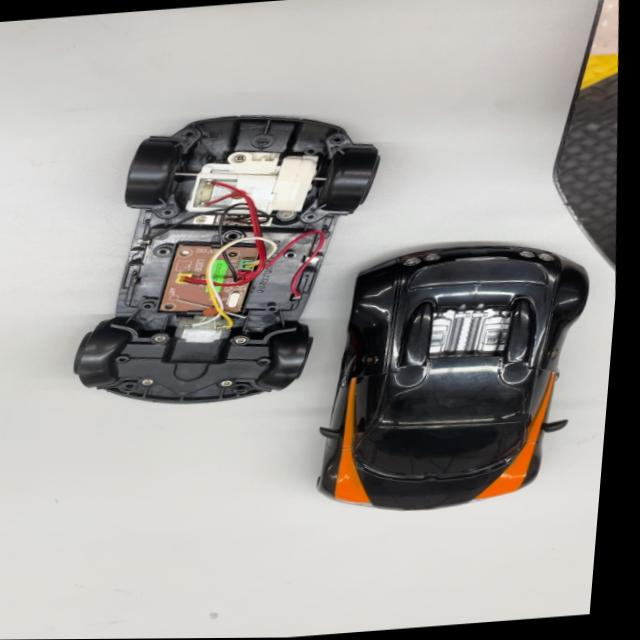Chassis: (46, 102, 402, 406)
vehicle_body: (294, 235, 609, 523)
